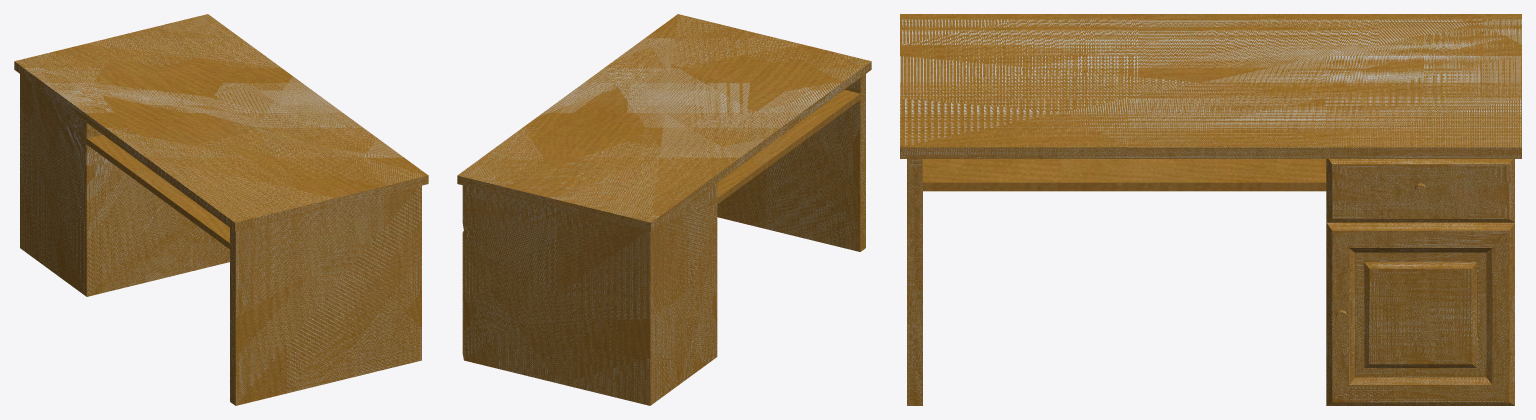
The picture shows the model from 3 angles, left to right: view 1: azimuth 30°, elevation 25°; view 2: azimuth 150°, elevation 25°; view 3: azimuth 270°, elevation 25°; orthographic projection. The views are drawn at different scales.
Visible parts, largest first — view 1: mesh1_mesh1-geometry; view 2: mesh1_mesh1-geometry; view 3: mesh1_mesh1-geometry.
Boxes of the visible parts, x1=… form: mesh1_mesh1-geometry: x1=14, y1=14, x2=428, y2=405; mesh1_mesh1-geometry: x1=457, y1=14, x2=871, y2=405; mesh1_mesh1-geometry: x1=900, y1=14, x2=1521, y2=405.
Size of the model in its own units: 0.4214 by 0.382 by 0.8225.
